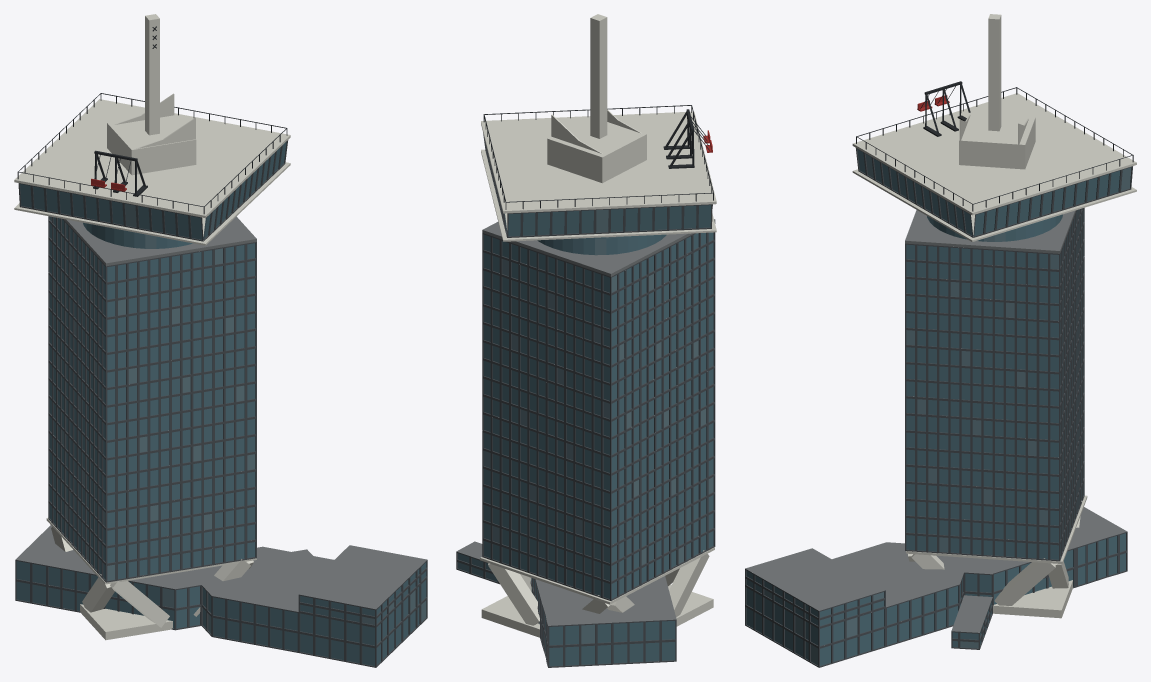
The model's file is adam-toren-near.glb.
3 views of the same model, side by side, from view 1: azimuth 30°, elevation 25°; view 2: azimuth 150°, elevation 25°; view 3: azimuth 270°, elevation 25° (orthographic). The views are drawn at different scales.
Visible parts, largest first — view 1: adam-toren-0-glass, adam-toren-0-frame, adam-toren-0-concrete, adam-toren-0-roof, adam-toren-0-glow, adam-toren-0-steel; view 2: adam-toren-0-glass, adam-toren-0-frame, adam-toren-0-concrete, adam-toren-0-roof, adam-toren-0-glow, adam-toren-0-steel; view 3: adam-toren-0-glass, adam-toren-0-frame, adam-toren-0-concrete, adam-toren-0-roof, adam-toren-0-glow, adam-toren-0-steel.
Boxes of the visible parts, x1,y1,x2,y2 form: adam-toren-0-glass: (16, 142, 426, 665); adam-toren-0-frame: (15, 140, 427, 667); adam-toren-0-concrete: (14, 14, 290, 640); adam-toren-0-roof: (15, 216, 426, 611); adam-toren-0-glow: (49, 203, 426, 633); adam-toren-0-steel: (17, 26, 287, 214); adam-toren-0-glass: (458, 205, 713, 666); adam-toren-0-frame: (456, 134, 715, 667); adam-toren-0-concrete: (480, 14, 716, 637); adam-toren-0-roof: (456, 219, 715, 625); adam-toren-0-glow: (484, 209, 713, 643); adam-toren-0-steel: (483, 105, 713, 209); adam-toren-0-glass: (746, 149, 1125, 665); adam-toren-0-frame: (745, 148, 1132, 667); adam-toren-0-concrete: (852, 14, 1136, 618); adam-toren-0-roof: (745, 210, 1126, 632); adam-toren-0-glow: (764, 154, 1131, 665); adam-toren-0-steel: (856, 81, 1133, 211).
Size of the model in its own units: 55.63 by 99 by 62.39.
